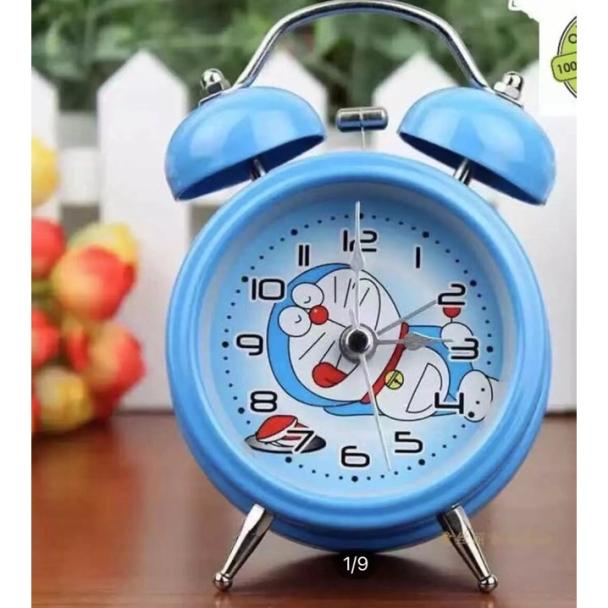Jam: (170, 154, 548, 532)
